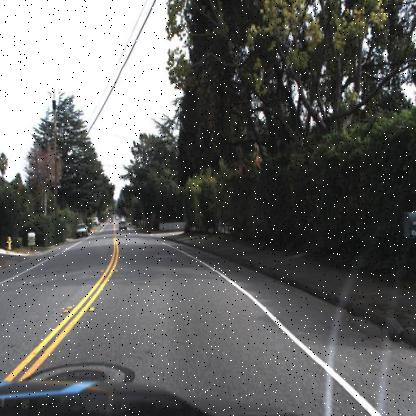car: (74, 221, 88, 239), (116, 218, 128, 234), (119, 218, 128, 233)
